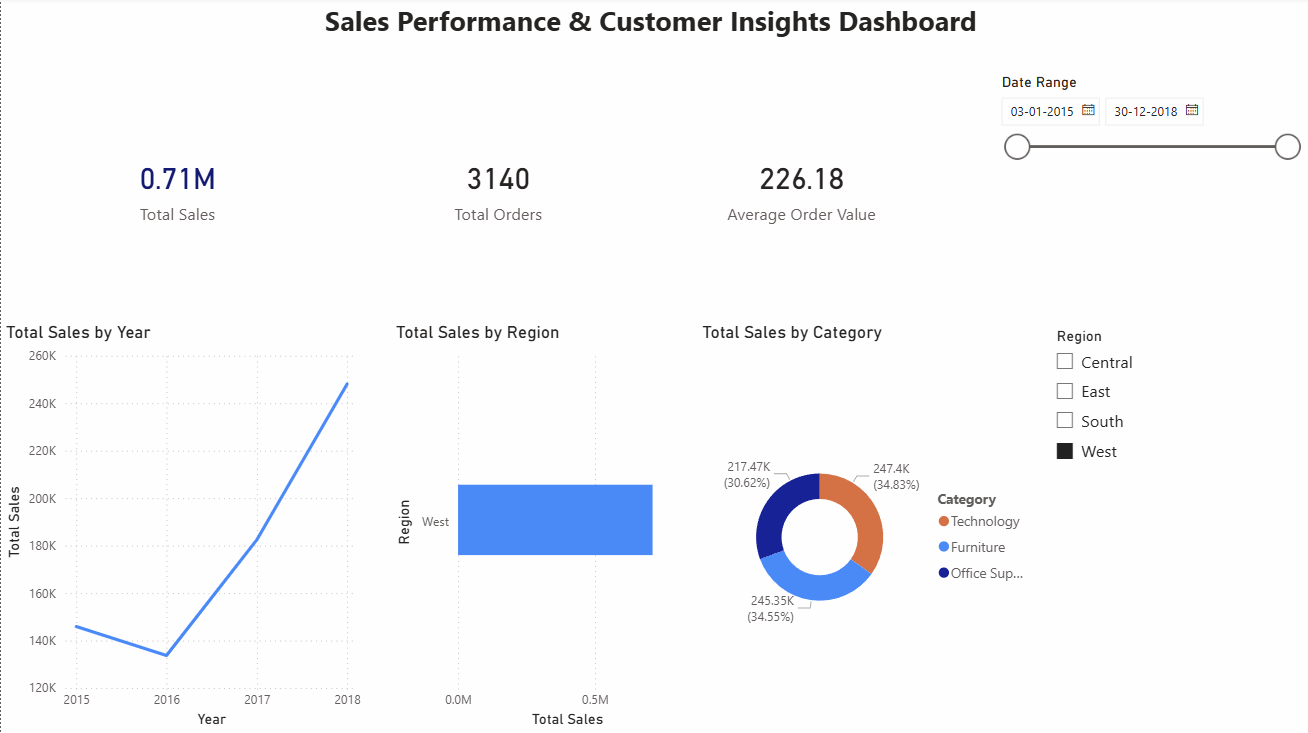

What the dashboard file says about the page in this screenshot:
{"tool":"powerbi","page":{"name":"Page 1","canvas":[1280,720],"ordinal":0},"visuals":[{"type":"card","fields":{"Values":["train.Total Orders"]},"box":[311.5,56.3,349.9,262.1],"z":0},{"type":"card","fields":{"Values":["train.Total Sales"]},"box":[0,56.3,345.8,262.1],"z":1000},{"type":"card","fields":{"Values":["train.Average Order Value"]},"box":[635.3,56.3,295,262.1],"z":2000},{"type":"lineChart","fields":{"Category":["train.Order Date.Variation.Date Hierarchy.Year","train.Order Date.Variation.Date Hierarchy.Quarter","train.Order Date.Variation.Date Hierarchy.Month","train.Order Date.Variation.Date Hierarchy.Day"],"Y":["train.Total Sales"]},"box":[0,318.4,356.8,402.1],"z":3000},{"type":"clusteredBarChart","fields":{"Category":["train.Region"],"Y":["train.Total Sales"]},"box":[381.5,318.4,299.1,402.1],"z":4000},{"type":"donutChart","fields":{"Category":["train.Category"],"Y":["train.Total Sales"]},"box":[680.6,318.4,338.9,402.1],"z":5000},{"type":"slicer","fields":{"Values":["train.Region"]},"box":[1019.3,318.4,260.7,402.1],"z":6000},{"type":"slicer","fields":{"Values":["train.Order Date"]},"box":[965.8,70,314.2,248.4],"z":7000},{"type":"textbox","box":[311.4,0,657.3,56.3],"z":7001}]}

Visuals, with their boxes in screenshot pixels (x1, y1, x2, y2), scaled from the page's 1280x720 canvas onto the 1308x733 screenshot:
card - train.Total Orders: [left=318, top=57, right=676, bottom=324]
card - train.Total Sales: [left=0, top=57, right=353, bottom=324]
card - train.Average Order Value: [left=649, top=57, right=951, bottom=324]
lineChart - train.Order Date.Variation.Date Hierarchy.Year x train.Order Date.Variation.Date Hierarchy.Quarter: [left=0, top=324, right=365, bottom=732]
clusteredBarChart - train.Region x train.Total Sales: [left=390, top=324, right=695, bottom=732]
donutChart - train.Category x train.Total Sales: [left=695, top=324, right=1042, bottom=732]
slicer - train.Region: [left=1042, top=324, right=1307, bottom=732]
slicer - train.Order Date: [left=987, top=71, right=1307, bottom=324]
textbox: [left=318, top=0, right=990, bottom=57]
